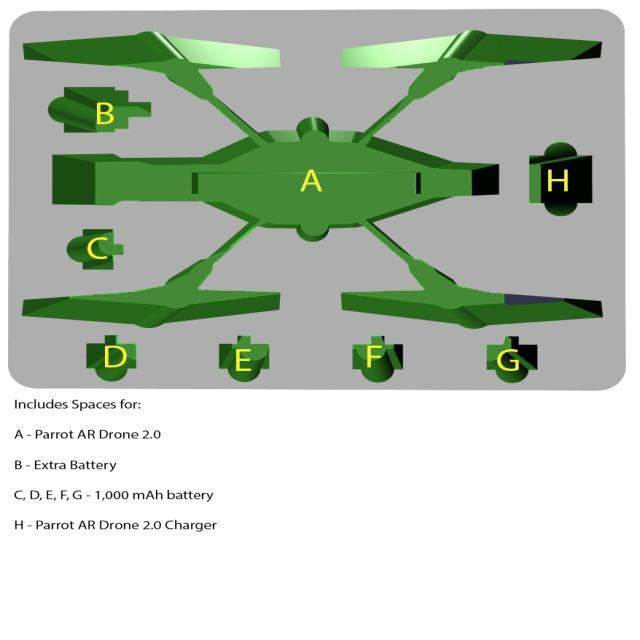drones: (0, 11, 607, 364)
